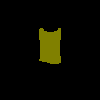canottiera: (38, 27, 61, 64)
